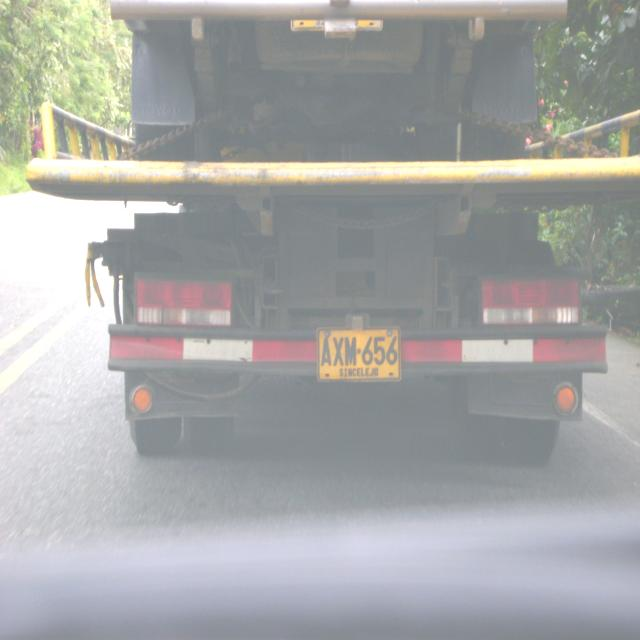placa: (313, 319, 406, 388)
